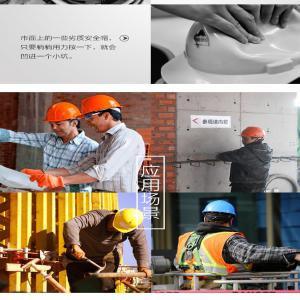blue: (200, 201, 241, 229)
yellow: (80, 95, 127, 133), (40, 102, 84, 137), (106, 206, 146, 235), (237, 126, 270, 148)
